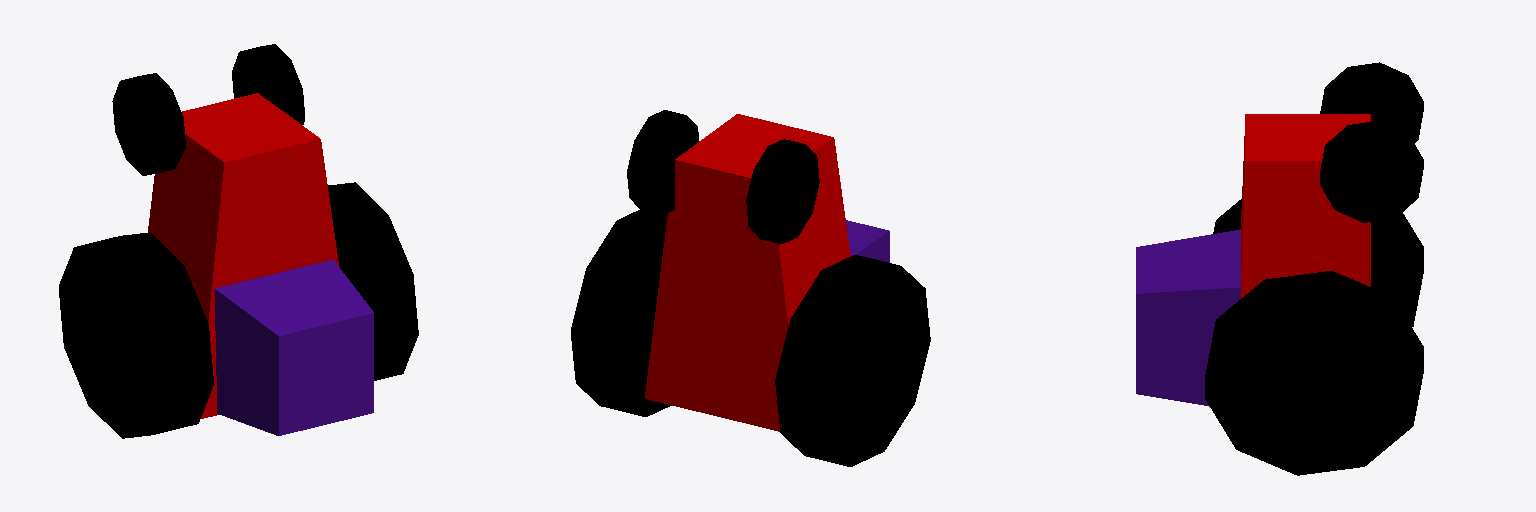
The model's file is tractor.obj.
The picture shows the model from 3 angles: view 1: azimuth 30°, elevation 25°; view 2: azimuth 150°, elevation 25°; view 3: azimuth 270°, elevation 25°; orthographic projection.
Visible parts, largest first — view 1: body_Cube, tire_RL_Cylinder, Cube.024_Cube.004, tire_RR_Cylinder.001, tire_FL_Cylinder.003, tire_FR_Cylinder.002; view 2: body_Cube, tire_RL_Cylinder, tire_RR_Cylinder.001, tire_FL_Cylinder.003, tire_FR_Cylinder.002, Cube.024_Cube.004; view 3: tire_RR_Cylinder.001, body_Cube, Cube.024_Cube.004, tire_FR_Cylinder.002, tire_FL_Cylinder.003, tire_RL_Cylinder.
Part boxes in pixels (x1,y1,x2,y2): body_Cube: (148, 93, 338, 418); tire_RL_Cylinder: (59, 232, 213, 438); Cube.024_Cube.004: (215, 260, 373, 435); tire_RR_Cylinder.001: (328, 182, 418, 380); tire_FL_Cylinder.003: (112, 73, 185, 175); tire_FR_Cylinder.002: (232, 44, 304, 124); body_Cube: (645, 114, 850, 431); tire_RL_Cylinder: (775, 255, 930, 466); tire_RR_Cylinder.001: (571, 210, 671, 416); tire_FL_Cylinder.003: (746, 139, 819, 243); tire_FR_Cylinder.002: (627, 110, 698, 214); Cube.024_Cube.004: (846, 220, 889, 262); tire_RR_Cylinder.001: (1205, 271, 1423, 475); body_Cube: (1240, 114, 1370, 298); Cube.024_Cube.004: (1136, 229, 1240, 406); tire_FR_Cylinder.002: (1320, 121, 1423, 222); tire_FL_Cylinder.003: (1320, 62, 1423, 142); tire_RL_Cylinder: (1213, 199, 1423, 326).
Size of the model in its own units: 0.7989 by 0.9653 by 0.7958.